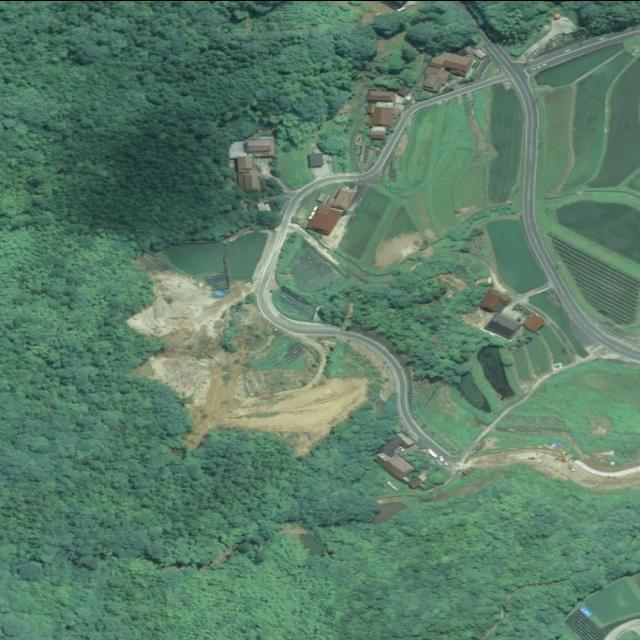landslide: (127, 256, 371, 454)
